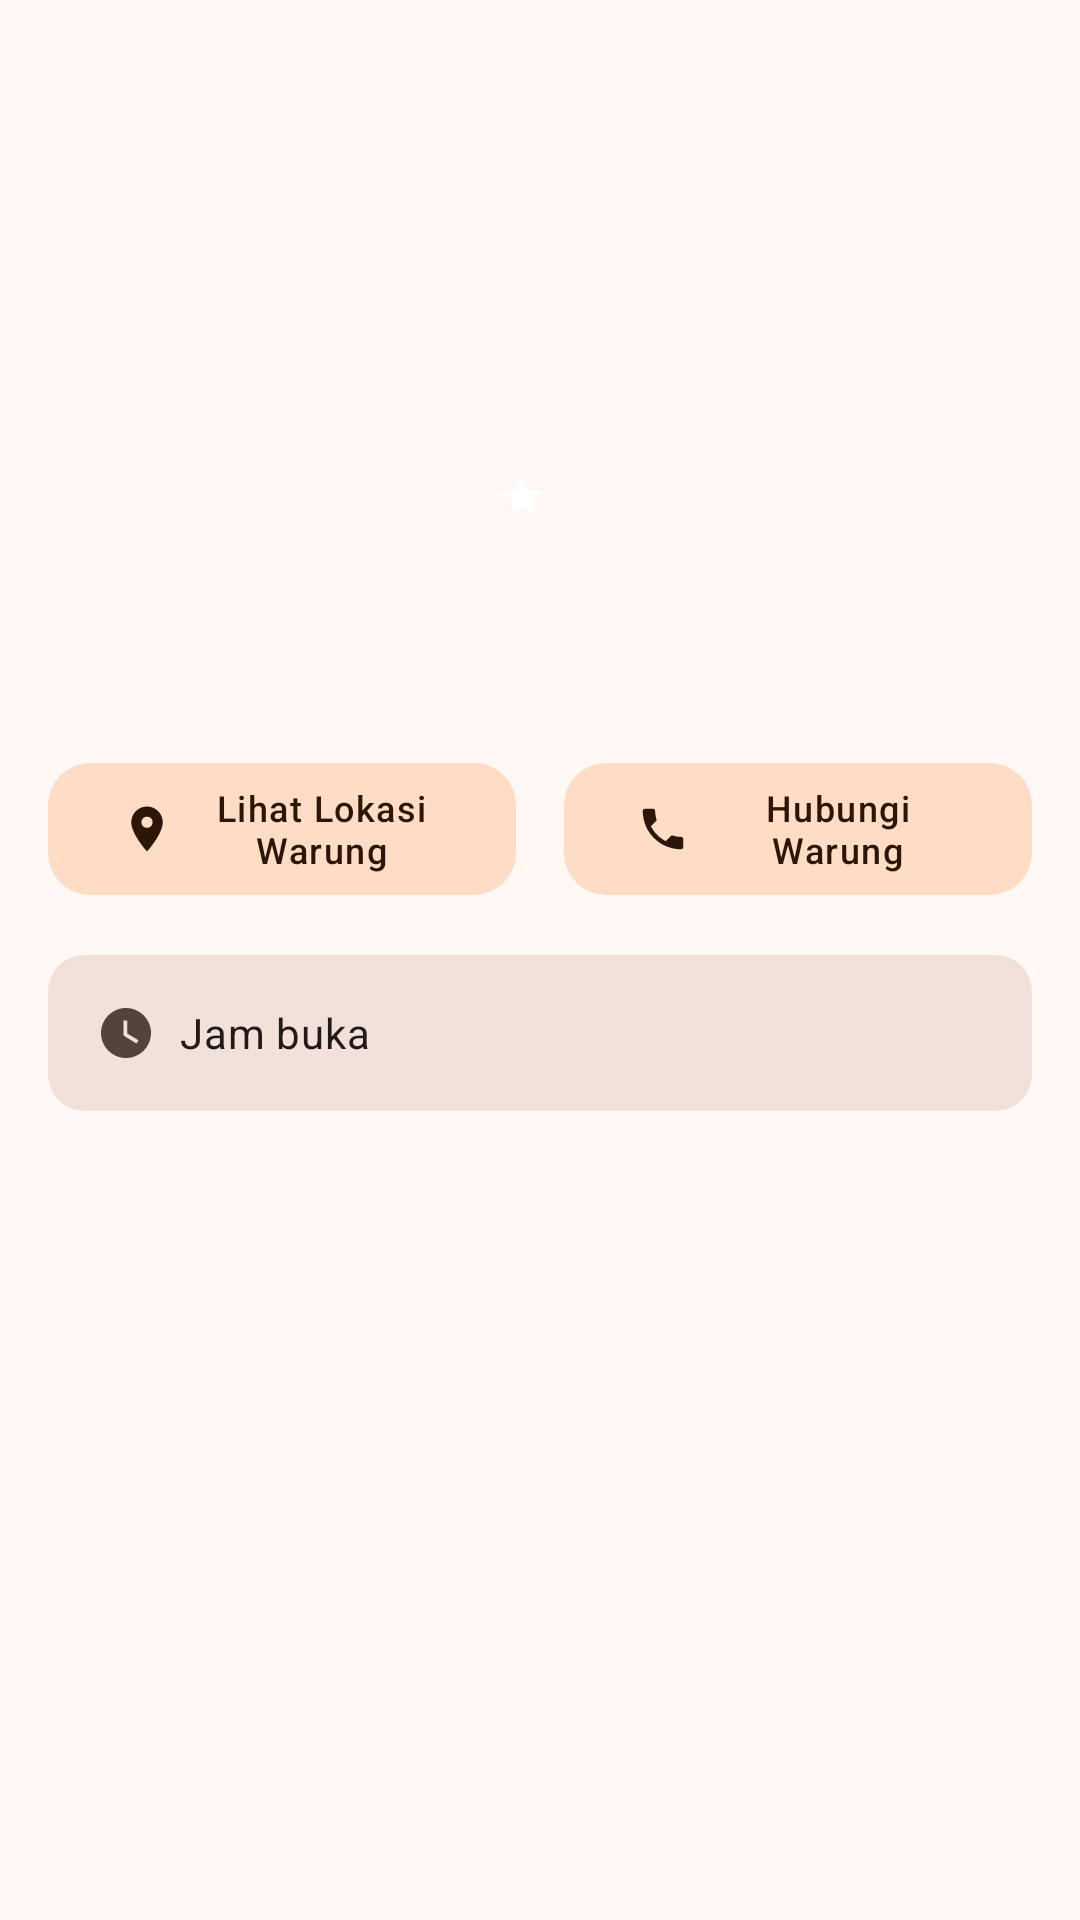

Icon bounding boxes for this 1080×1920 phone screenshot, format (x1, y1, x2, y2):
clock: (101, 1008, 151, 1058)
